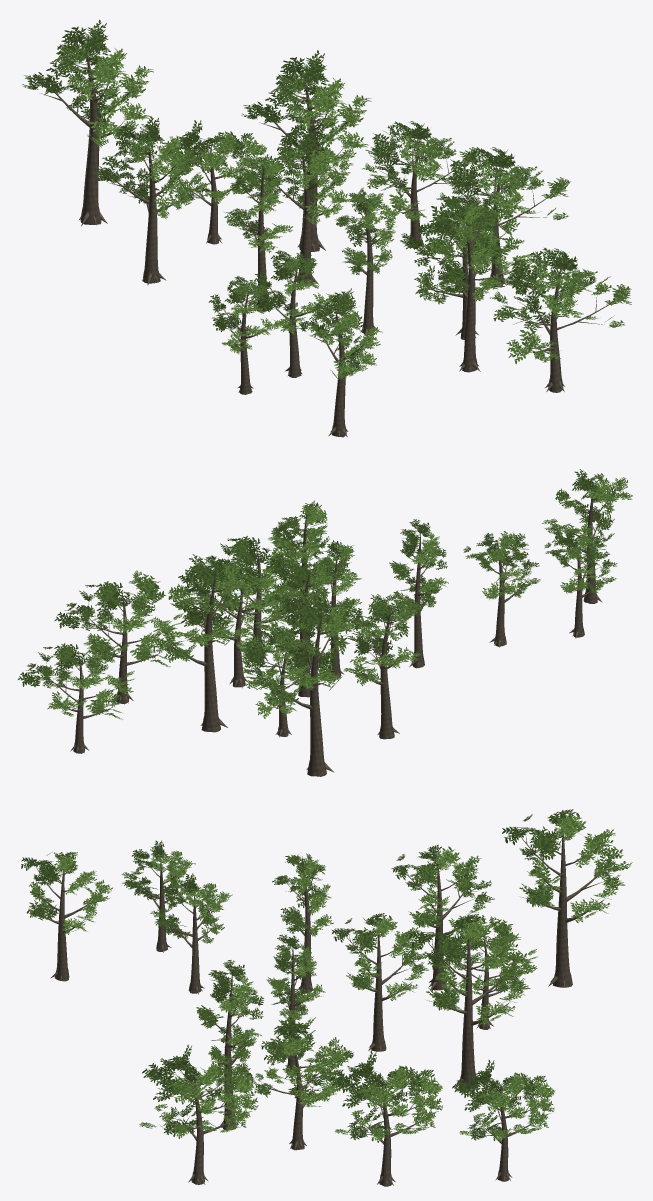
File: Canopy_14_15.glb
3 views of the same model, one above another, from view 1: azimuth 30°, elevation 25°; view 2: azimuth 150°, elevation 25°; view 3: azimuth 270°, elevation 25° (orthographic). The views are drawn at different scales.
Parts seen in each view (by area): view 1: Canopy_14_15; view 2: Canopy_14_15; view 3: Canopy_14_15.
Part boxes in pixels (x1,y1,x2,y2): Canopy_14_15: (22,19,631,437); Canopy_14_15: (18,469,632,776); Canopy_14_15: (21,809,632,1186).
Bounding box in the file's own units: 52.85 × 29.77 × 65.07.
2 materials, 2 textured.
